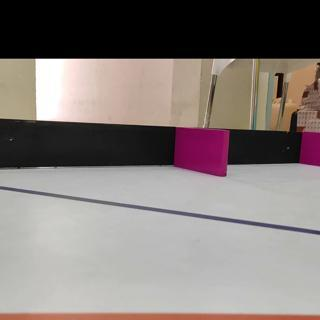xparking: (178, 130, 225, 172), (303, 131, 320, 163)
